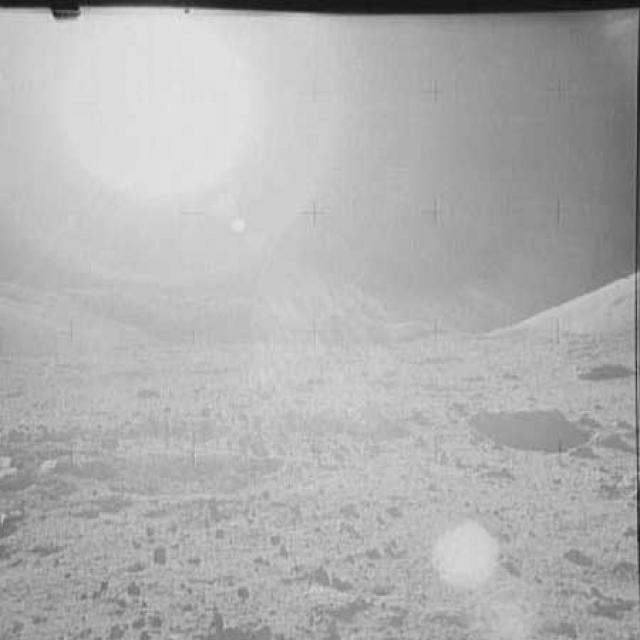crater: (109, 455, 256, 497)
rock: (474, 396, 578, 448), (570, 355, 632, 386)
